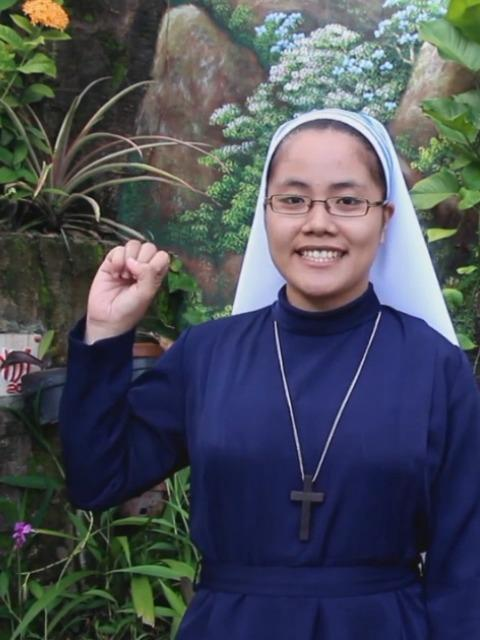S: (84, 233, 177, 324)
